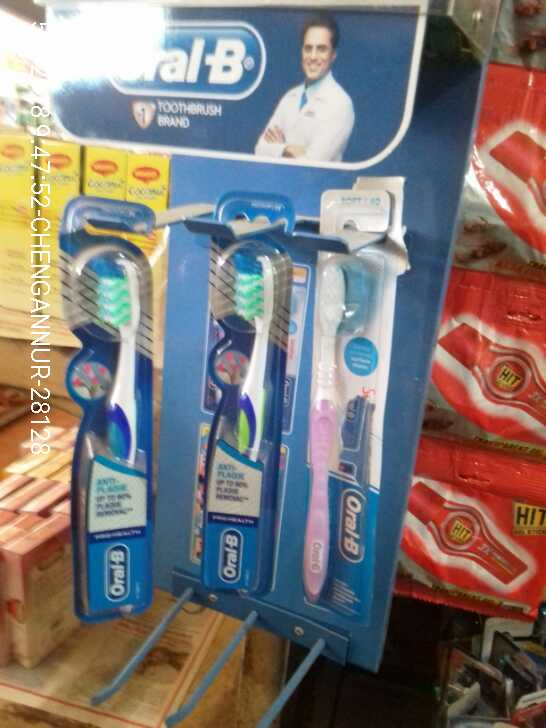oralb: (187, 191, 290, 602), (58, 193, 155, 612), (296, 175, 384, 622)
